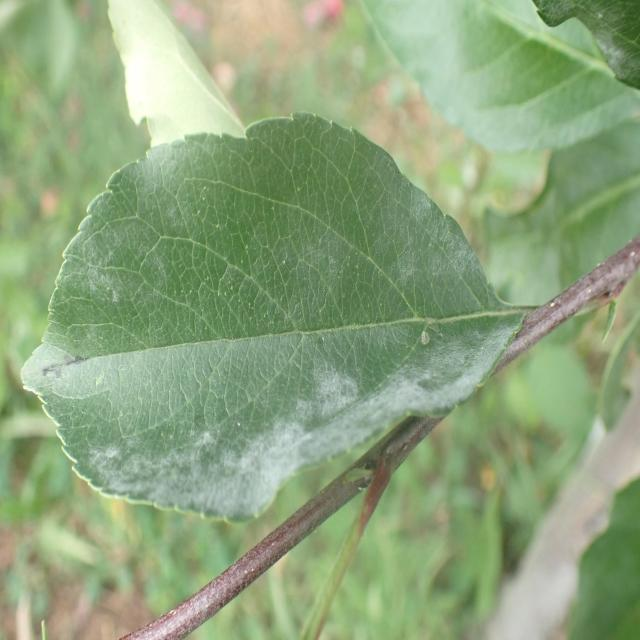Powdery_mildew: (35, 156, 521, 527)
